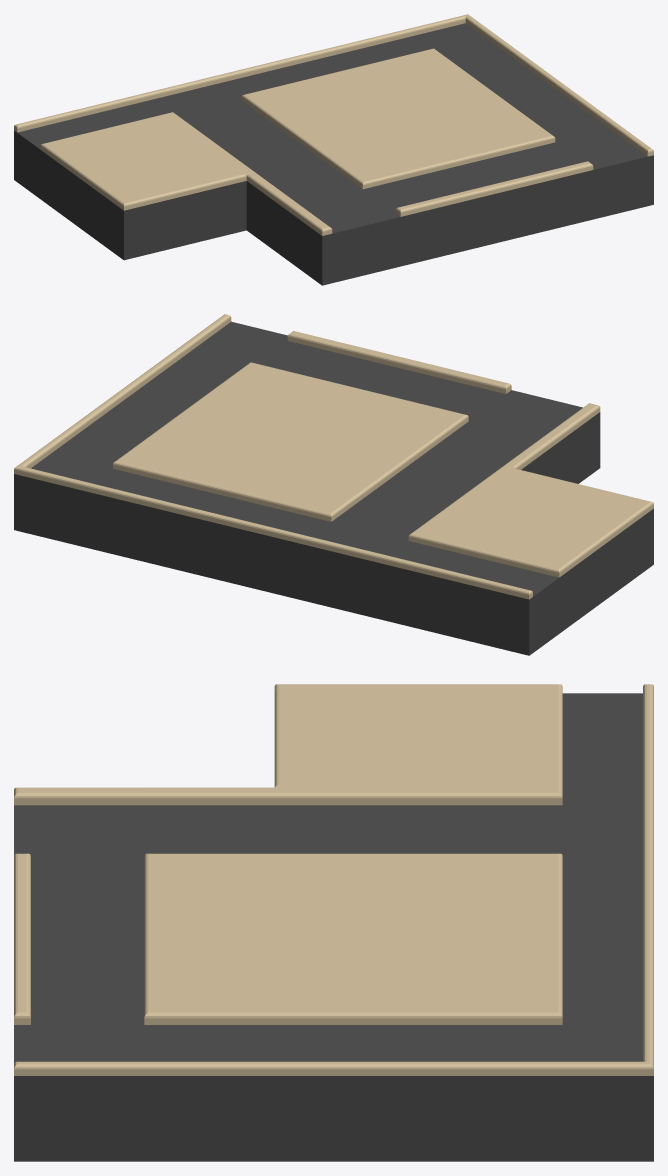
The model's file is EstradaBloco4.fbx.
The picture shows the model from 3 angles, top to bottom: view 1: azimuth 30°, elevation 25°; view 2: azimuth 150°, elevation 25°; view 3: azimuth 270°, elevation 25°; orthographic projection. The views are drawn at different scales.
Visible parts, largest first — view 1: Cube.005; view 2: Cube.005; view 3: Cube.005.
Boxes of the visible parts, x1,y1,x2,y2 form: Cube.005: (14, 14, 653, 285); Cube.005: (14, 314, 653, 655); Cube.005: (14, 684, 653, 1161).
Size of the model in its own units: 279 by 32.69 by 197.
